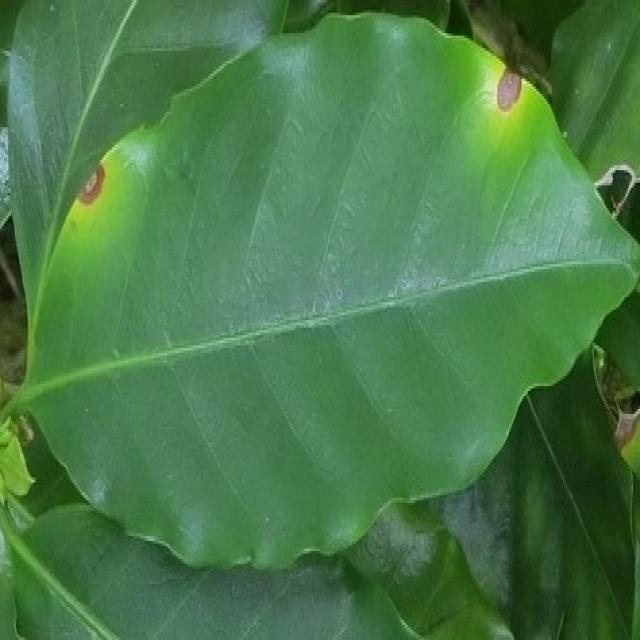Enfermedad-Mancha-de-hierro: (16, 13, 640, 571)
